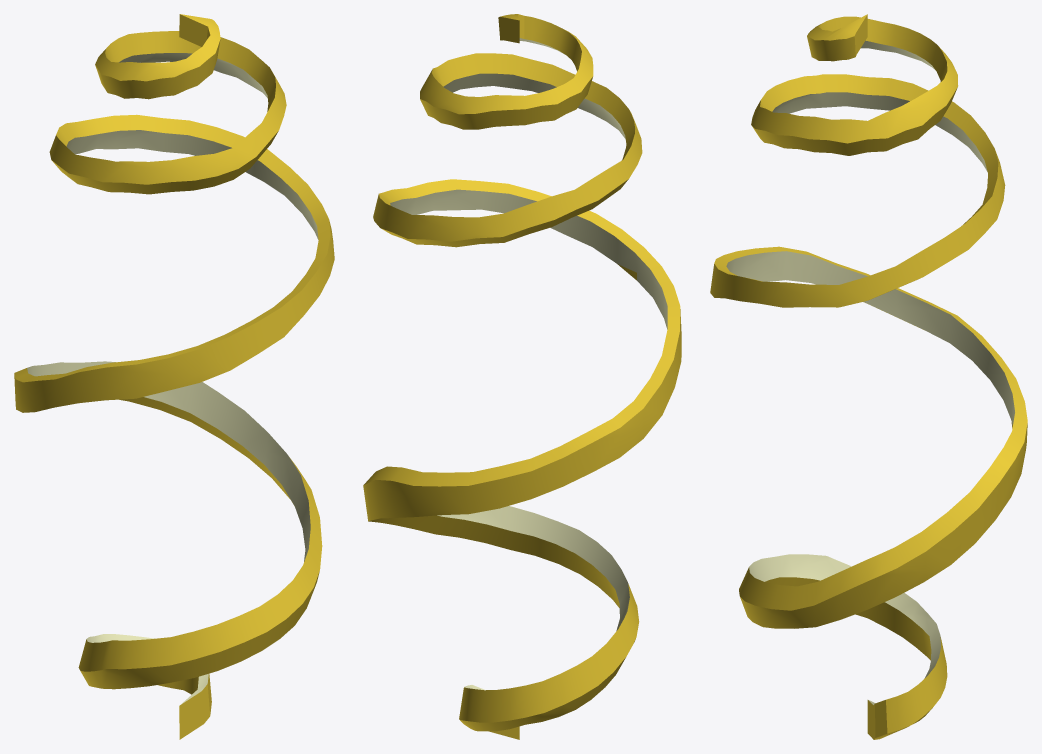
The model's file is Limon.fbx.
The picture shows the model from 3 angles, left to right: view 1: azimuth 30°, elevation 25°; view 2: azimuth 150°, elevation 25°; view 3: azimuth 270°, elevation 25°; orthographic projection.
Visible parts, largest first — view 1: Limon; view 2: Limon; view 3: Limon.
Boxes of the visible parts, x1=… form: Limon: x1=14, y1=14, x2=334, y2=739; Limon: x1=363, y1=14, x2=681, y2=739; Limon: x1=710, y1=14, x2=1027, y2=739.
Size of the model in its own units: 13.28 by 33.2 by 13.28.
